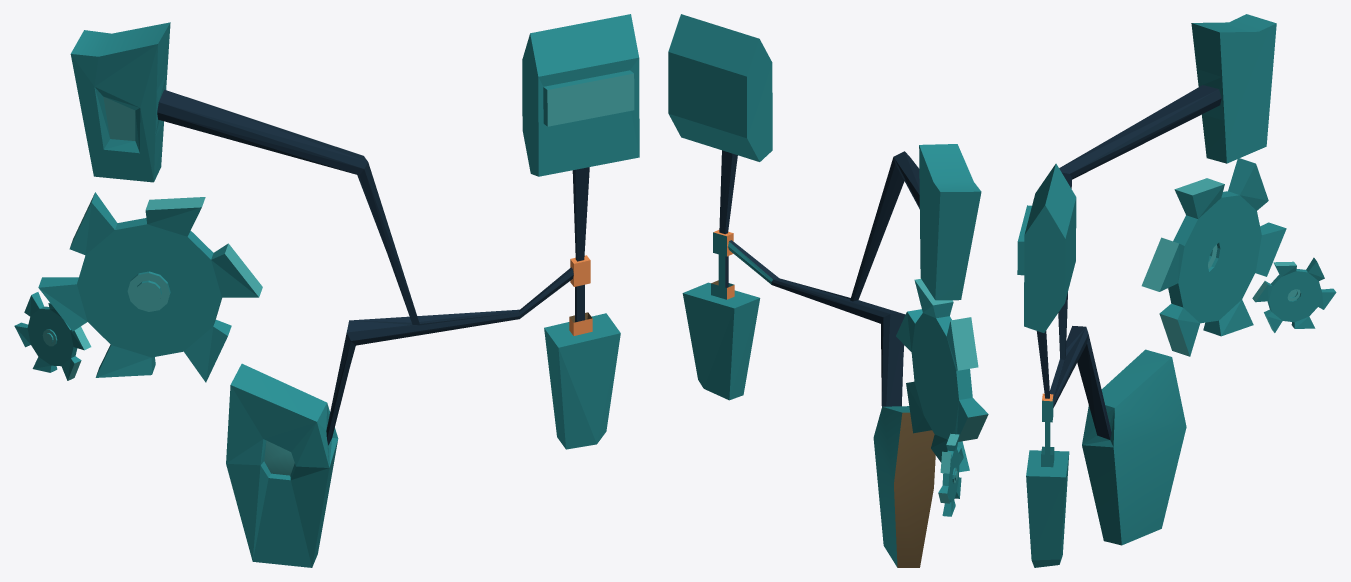
Rendered from room-2.FBX.
3 renders of one model, left to right at view 1: azimuth 30°, elevation 25°; view 2: azimuth 150°, elevation 25°; view 3: azimuth 270°, elevation 25°, orthographic. The views are drawn at different scales.
Parts seen in each view (by area): view 1: Object040; view 2: Object040; view 3: Object040.
Part boxes in pixels (x1,y1,x2,y2): Object040: (14, 14, 639, 567); Object040: (668, 14, 988, 567); Object040: (1017, 14, 1336, 567).
Bounding box in the file's own units: 10.1 × 10.57 × 6.44.
